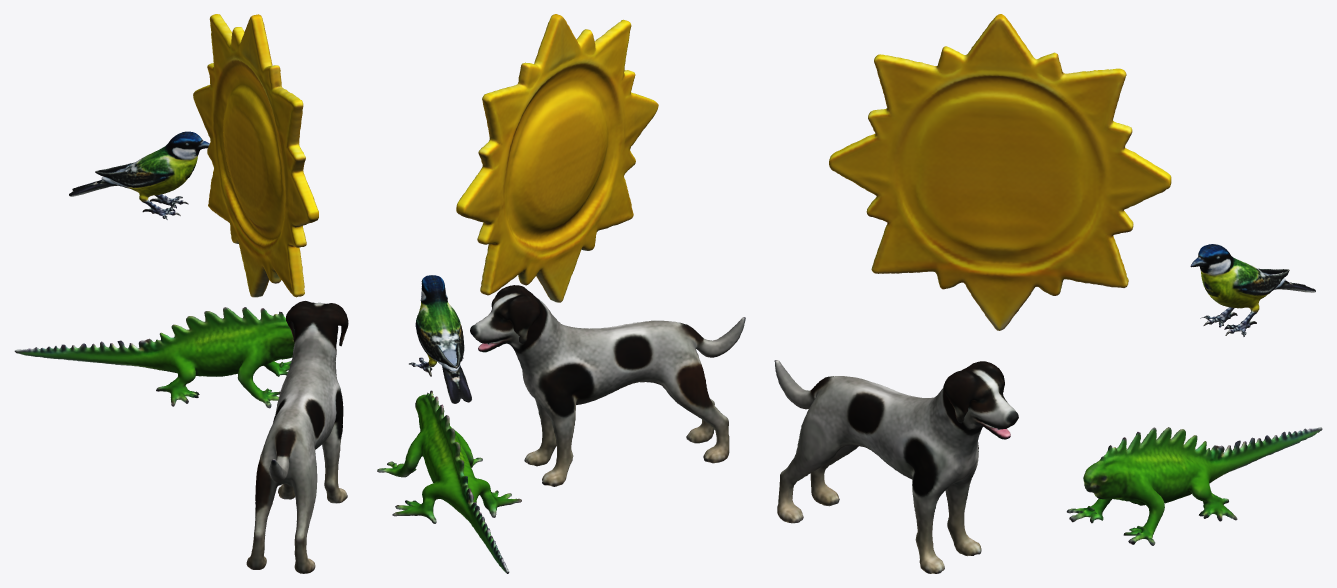
The model's file is iguana3.glb.
The picture shows the model from 3 angles, left to right: view 1: azimuth 30°, elevation 25°; view 2: azimuth 150°, elevation 25°; view 3: azimuth 270°, elevation 25°; orthographic projection. The views are drawn at different scales.
Visible parts, largest first — view 1: Mesh_0.009, Mesh_0.001, Mesh_0, Mesh_0.002; view 2: Mesh_0.009, Mesh_0.001, Mesh_0, Mesh_0.002; view 3: Mesh_0.009, Mesh_0.001, Mesh_0, Mesh_0.002.
Part boxes in pixels (left/top/right/bottom): Mesh_0.009: left=193, top=14, right=318, bottom=297; Mesh_0.001: left=246, top=301, right=348, bottom=573; Mesh_0: left=14, top=307, right=294, bottom=408; Mesh_0.002: left=69, top=131, right=209, bottom=219; Mesh_0.009: left=456, top=14, right=658, bottom=302; Mesh_0.001: left=470, top=285, right=745, bottom=486; Mesh_0: left=377, top=390, right=521, bottom=573; Mesh_0.002: left=409, top=275, right=471, bottom=403; Mesh_0.009: left=829, top=14, right=1171, bottom=330; Mesh_0.001: left=774, top=360, right=1018, bottom=573; Mesh_0: left=1066, top=427, right=1322, bottom=545; Mesh_0.002: left=1190, top=244, right=1315, bottom=336.
Size of the model in its own units: 11.41 by 25.26 by 23.73.
4 materials, 4 textured.
